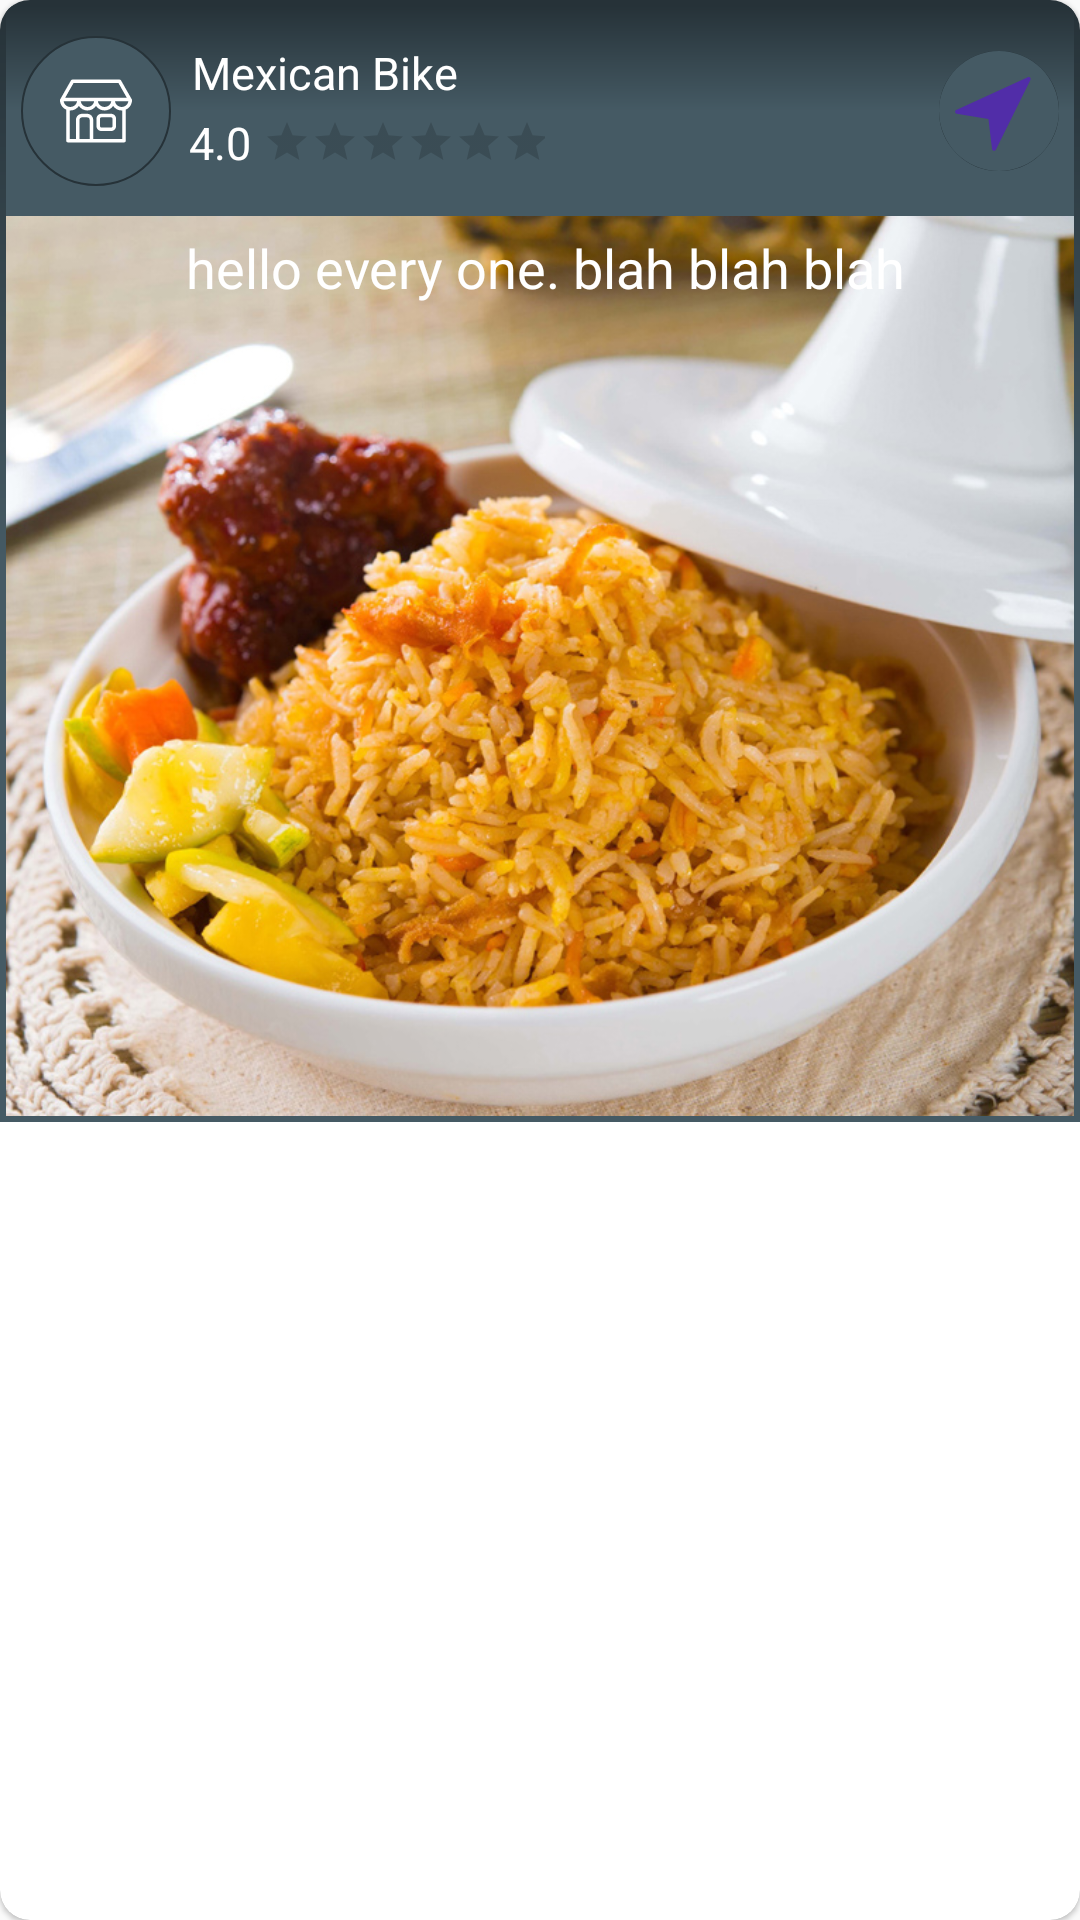

Point at icon controls on the screen. Image size 1080x1920, points as (x,y).
navigation: (1005,102)
shop: (96,111)
